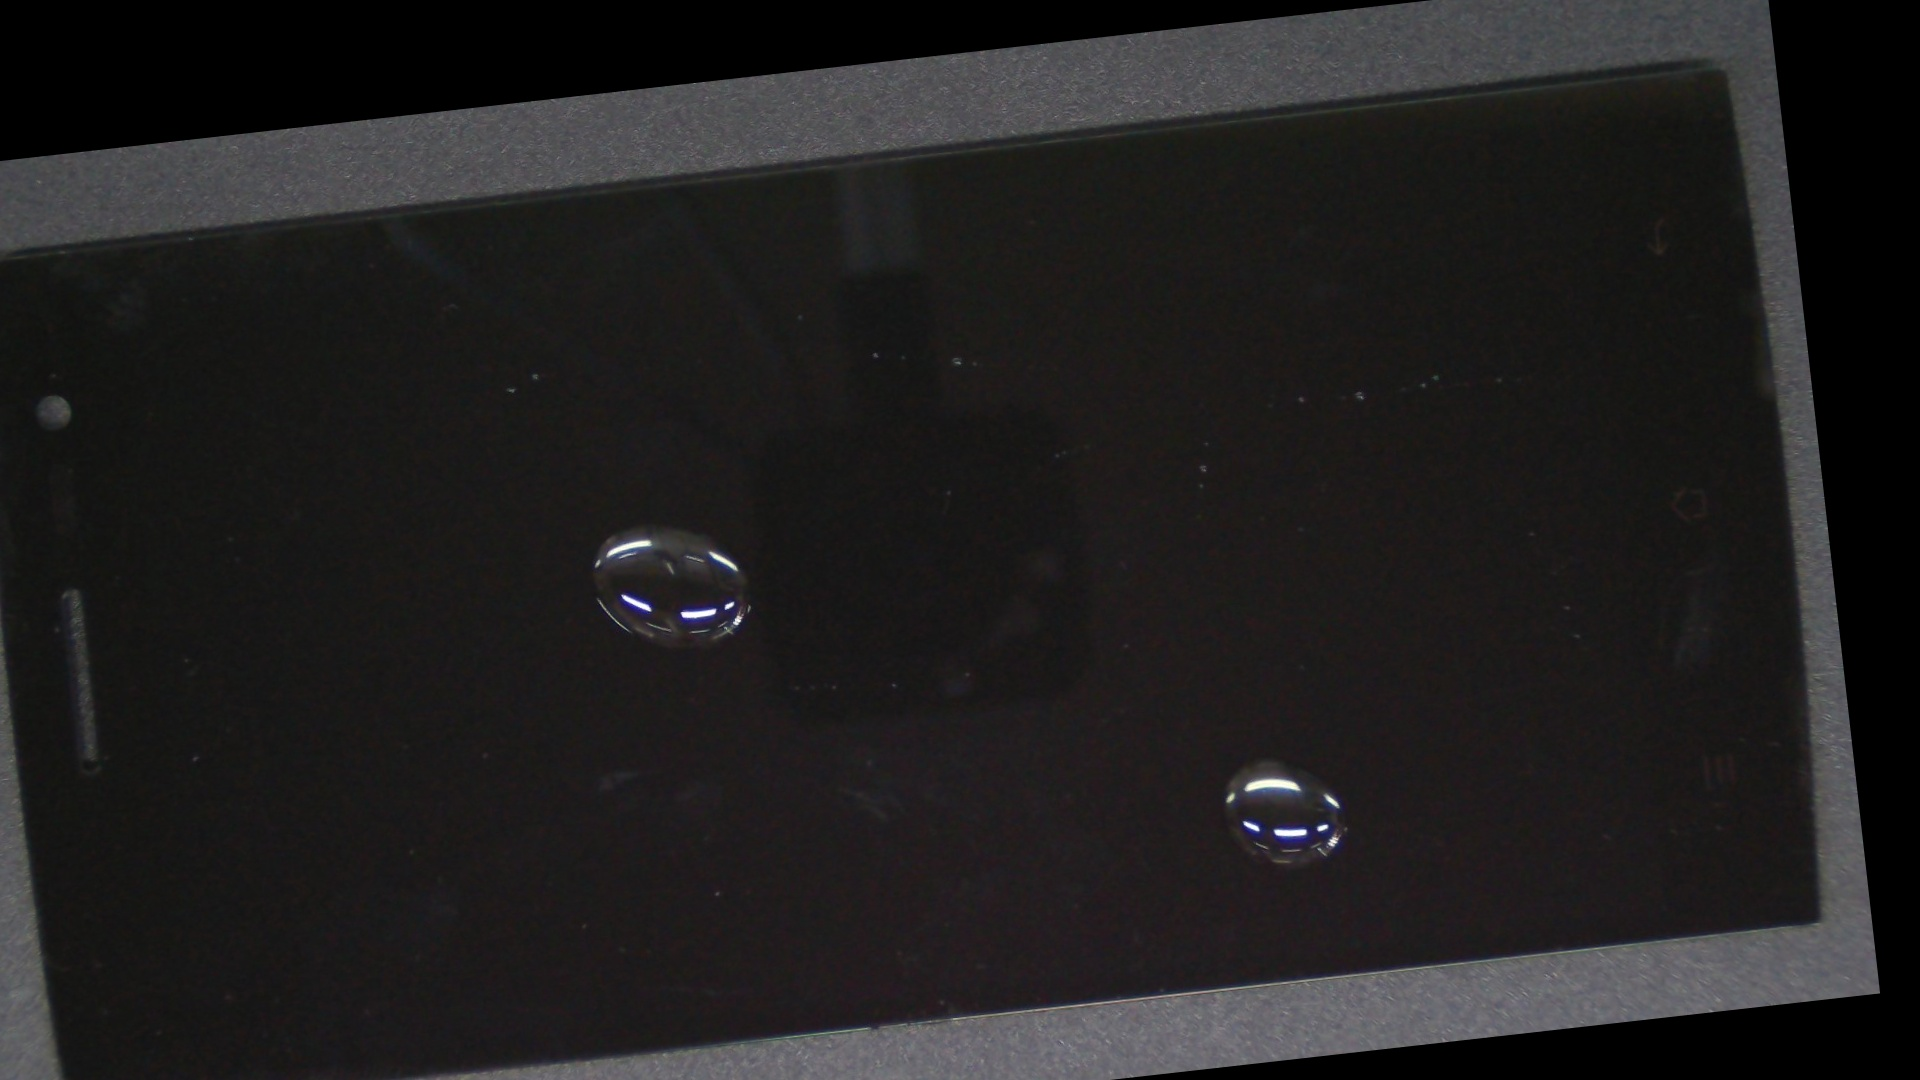oil: (570, 328, 1880, 1080), (260, 270, 1019, 782)
